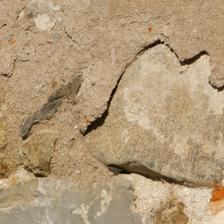Crack: (29, 78, 132, 146), (7, 65, 86, 128), (70, 82, 130, 117)
